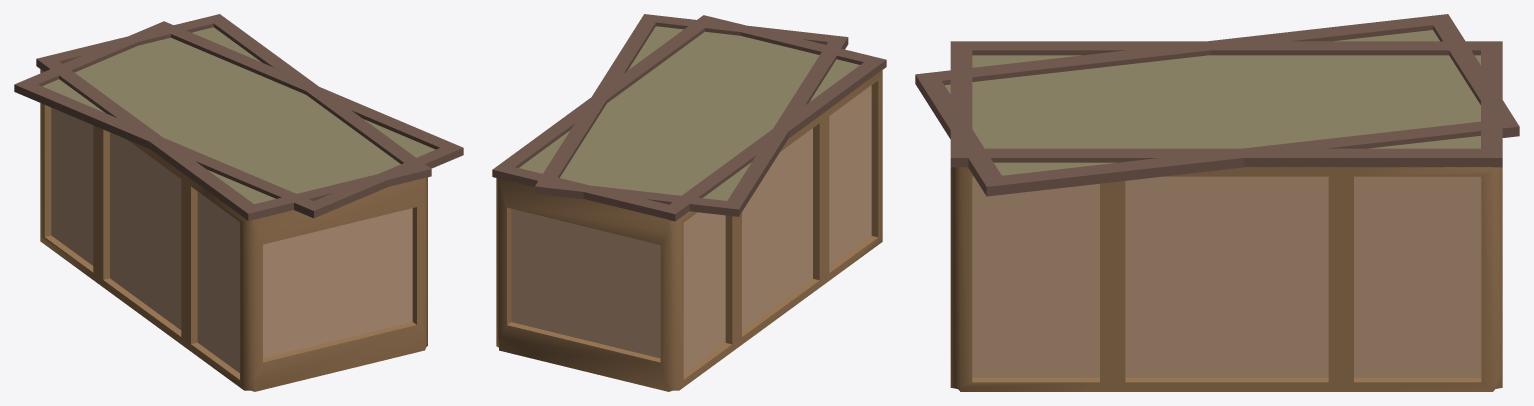
File: LootBox 1.fbx
3 renders of one model, left to right at view 1: azimuth 30°, elevation 25°; view 2: azimuth 150°, elevation 25°; view 3: azimuth 270°, elevation 25°, orthographic. The views are drawn at different scales.
Visible parts, largest first — view 1: Cube, Cube.001, Cube.002; view 2: Cube, Cube.001, Cube.002; view 3: Cube, Cube.002, Cube.001.
Part boxes in pixels (x1,y1,x2,y2): Cube: [40, 69, 427, 391]; Cube.001: [36, 14, 431, 220]; Cube.002: [14, 21, 463, 218]; Cube: [496, 70, 882, 391]; Cube.001: [492, 15, 886, 221]; Cube.002: [535, 14, 848, 216]; Cube: [950, 167, 1502, 391]; Cube.002: [915, 14, 1519, 196]; Cube.001: [950, 41, 1502, 167].
Size of the model in its own units: 297 by 187 by 438.
